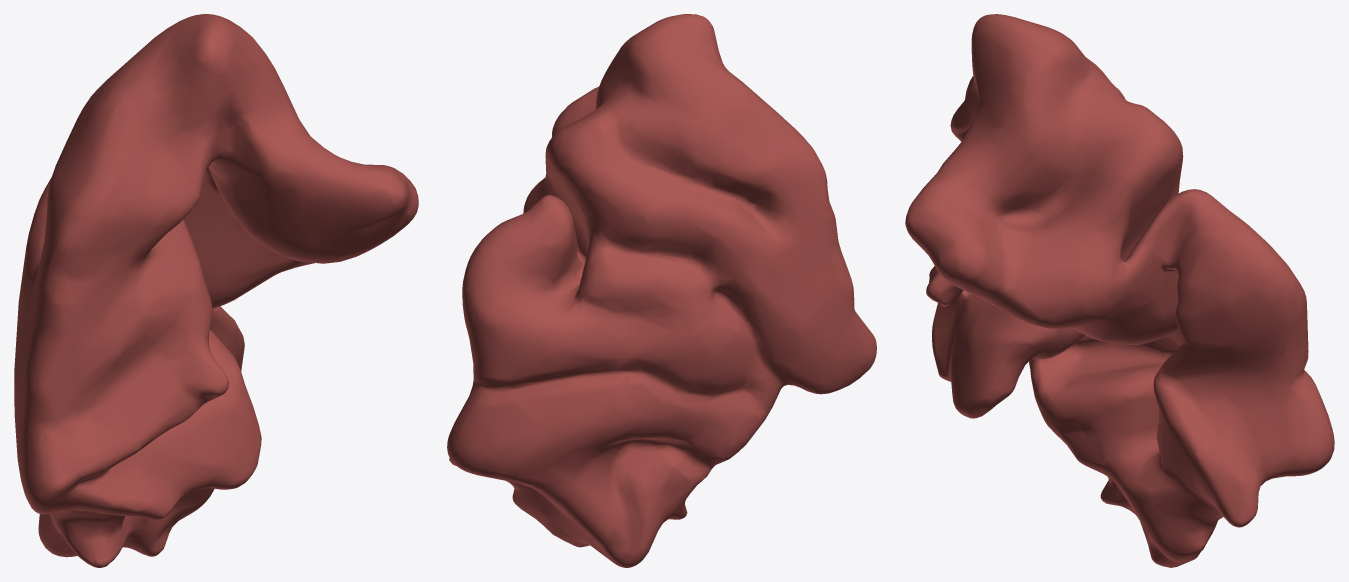
Rendered from FMA72669.glb.
3 renders of one model, left to right at view 1: azimuth 30°, elevation 25°; view 2: azimuth 150°, elevation 25°; view 3: azimuth 270°, elevation 25°, orthographic. The views are drawn at different scales.
Visible parts, largest first — view 1: FMA72669; view 2: FMA72669; view 3: FMA72669.
Part boxes in pixels (left/top/right/bottom): FMA72669: left=14, top=14, right=418, bottom=567; FMA72669: left=447, top=14, right=876, bottom=567; FMA72669: left=905, top=14, right=1334, bottom=567.
Size of the model in its own units: 0.0406 by 0.06 by 0.0436.
